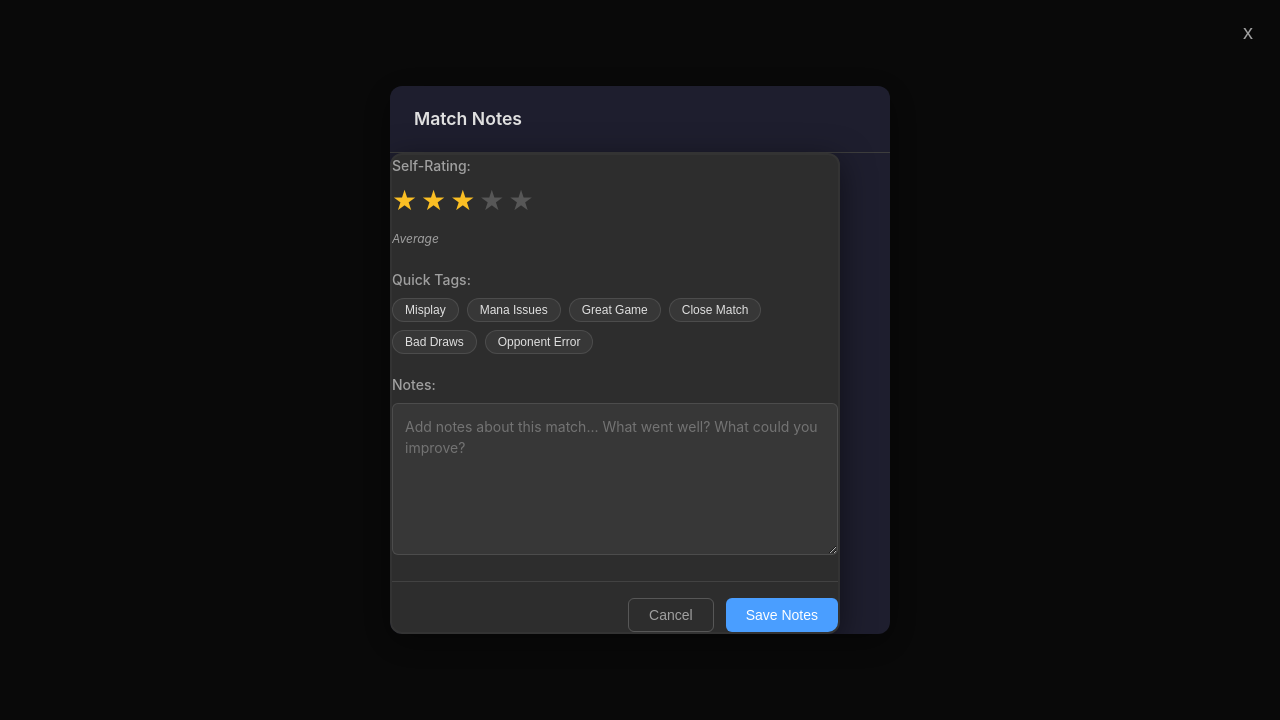
Scenario: MatchNotesModal › Rating Interaction › should toggle rating off when same star clicked
This screenshot has width=1280, height=720.
Expected: the text "Average" is shown, left=392, top=231, right=439, bottom=246
Click the same 3rd star again using title
Click the 3rd button titled "3 stars" at (463, 201), box left=450, top=184, right=475, bottom=217
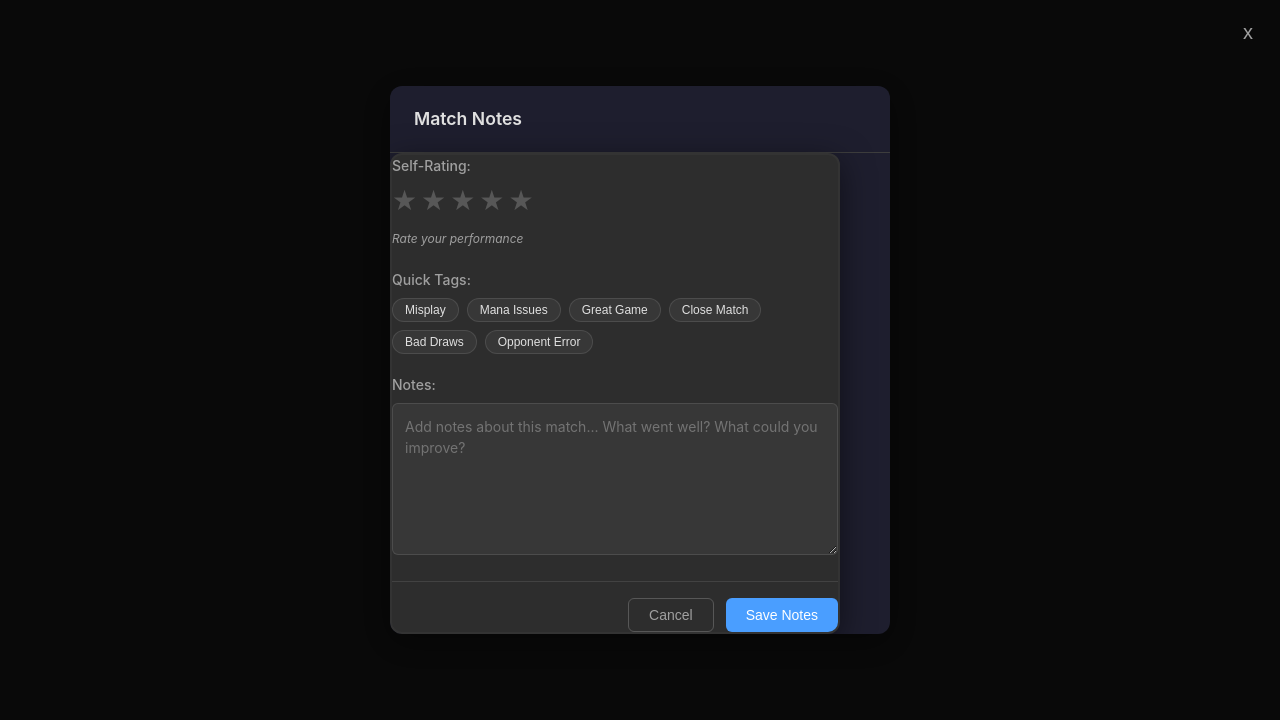
Expected: the text "Rate your performance" is shown, left=392, top=231, right=524, bottom=246
